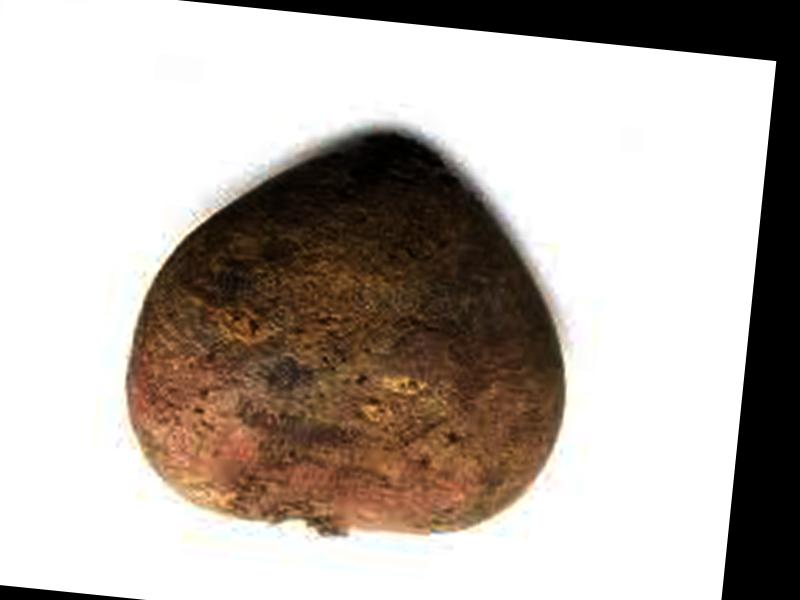Beet: (112, 112, 592, 553)
